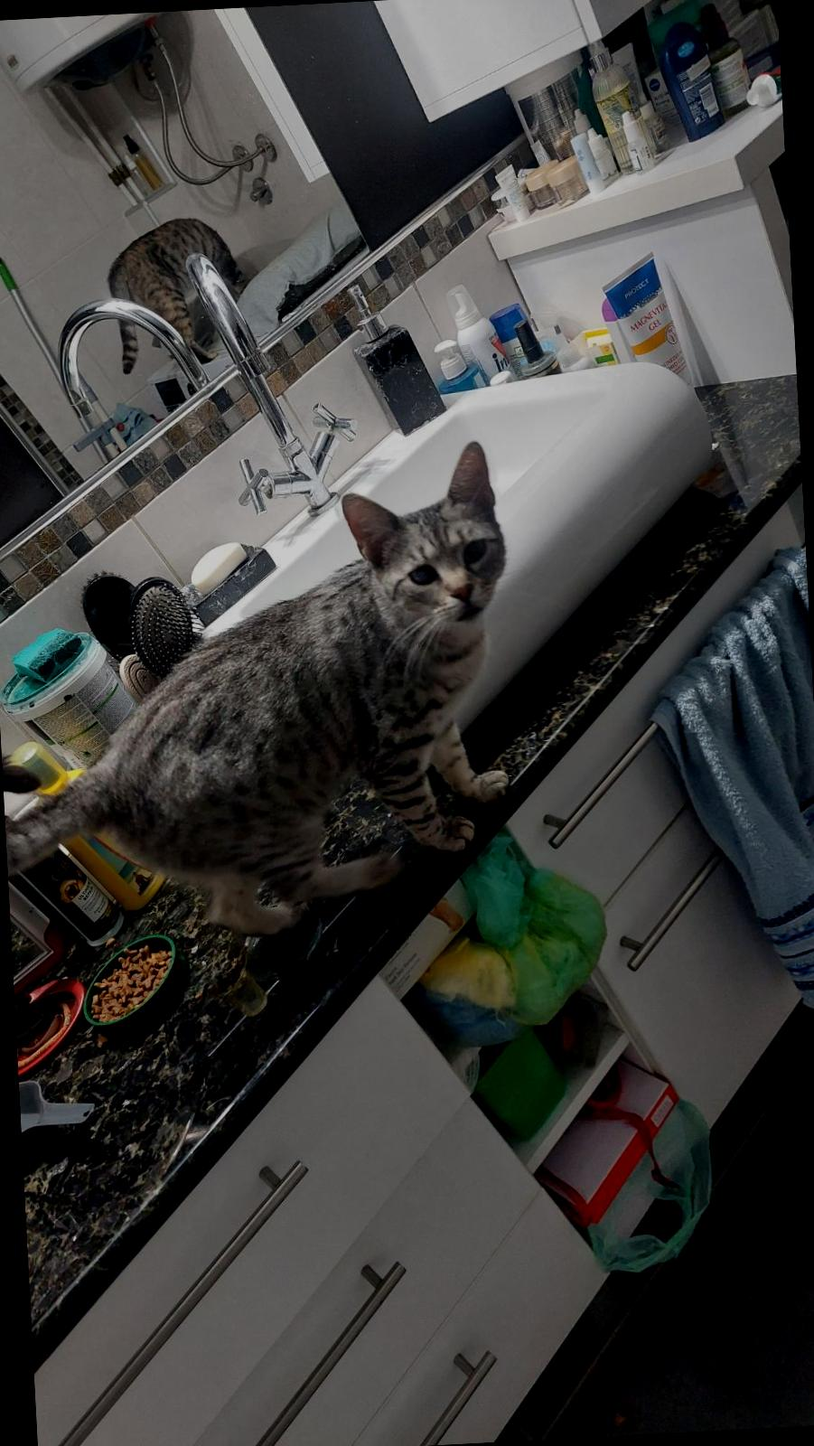macka: (0, 439, 525, 953)
